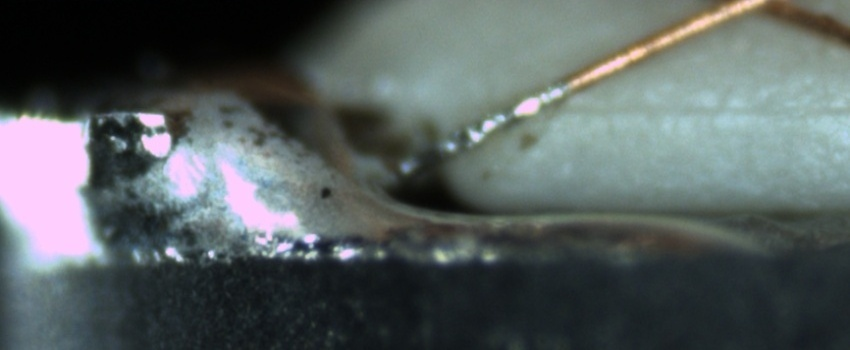CL: (706, 0, 814, 30)
DL: (568, 77, 849, 141)
TS: (386, 86, 568, 183)
TTCW: (398, 51, 608, 184)
